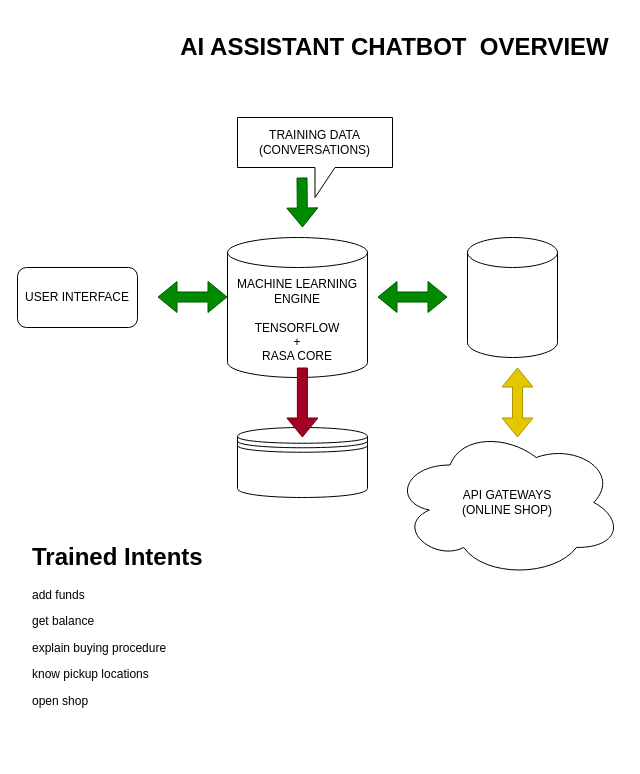
Image size: 640x774. Some labels were removed from this diagram. Each missing label, with the box of its shape:
ACTIONS SERVER: (466, 236, 558, 358)
SAVED TRAINING DATA: (236, 426, 368, 498)
